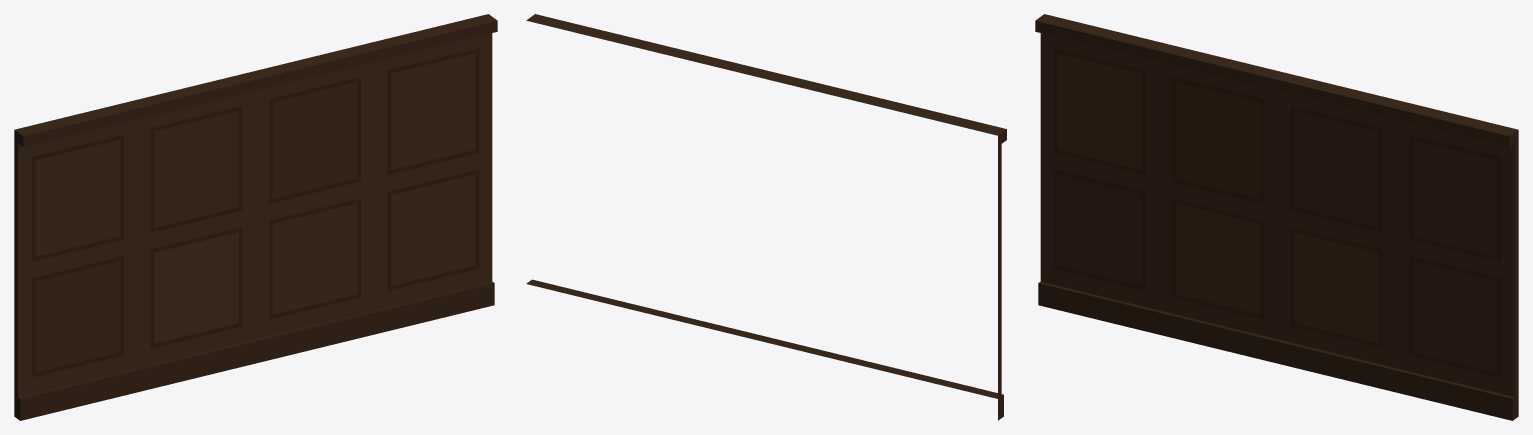
File: wall.panel_window.plain.glb
3 renders of one model, left to right at view 1: azimuth 30°, elevation 25°; view 2: azimuth 150°, elevation 25°; view 3: azimuth 330°, elevation 25°, orthographic.
Parts seen in each view (by area): view 1: wall_panel_window_plain; view 2: wall_panel_window_plain; view 3: wall_panel_window_plain.
Part boxes in pixels (x1,y1,x2,y2): wall_panel_window_plain: [14, 14, 497, 420]; wall_panel_window_plain: [526, 14, 1006, 420]; wall_panel_window_plain: [1035, 14, 1518, 420].
Size of what is drawn, in the model's own units: 3.6 by 2.08 by 0.12.
